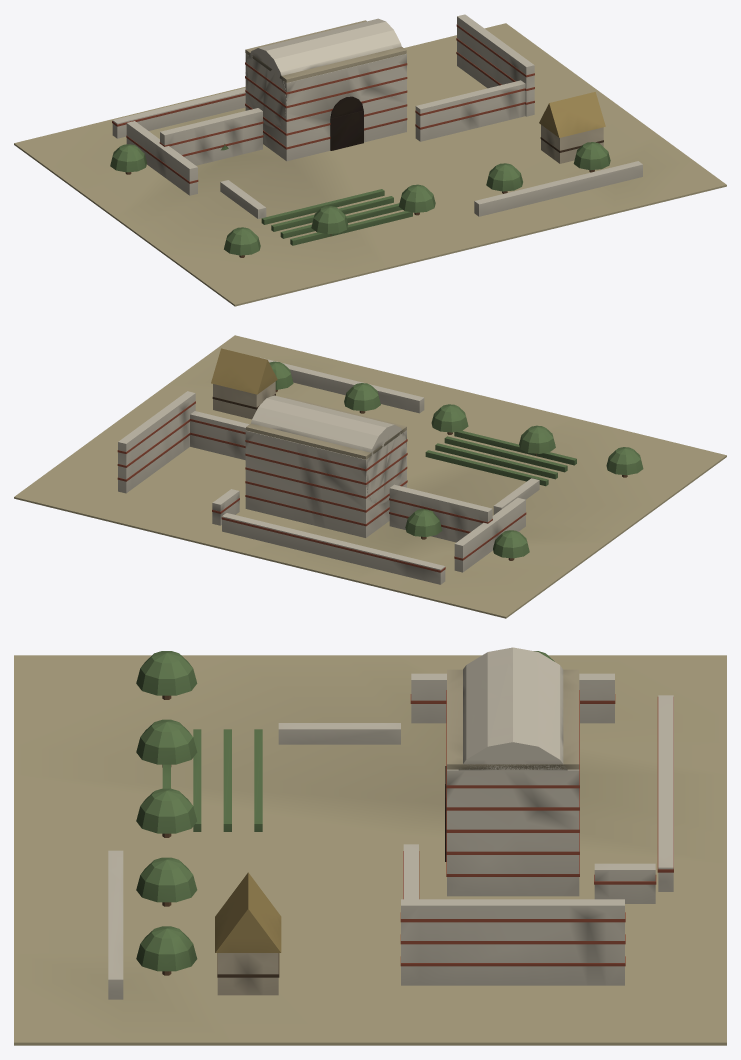
File: cluny-ruins.glb
3 renders of one model, top to bottom at view 1: azimuth 30°, elevation 25°; view 2: azimuth 150°, elevation 25°; view 3: azimuth 270°, elevation 25°, orthographic. The views are drawn at different scales.
Visible parts, largest first — view 1: p0_frigidarium, p1_ruins; view 2: p0_frigidarium, p1_ruins; view 3: p0_frigidarium, p1_ruins.
Boxes of the visible parts, x1,y1,x2,y2 form: p0_frigidarium: (14,18,726,306); p1_ruins: (110,14,642,257); p0_frigidarium: (14,335,726,618); p1_ruins: (117,348,643,584); p0_frigidarium: (14,647,726,1045); p1_ruins: (108,651,673,999).
Size of the model in its own units: 90 by 17.04 by 70.
